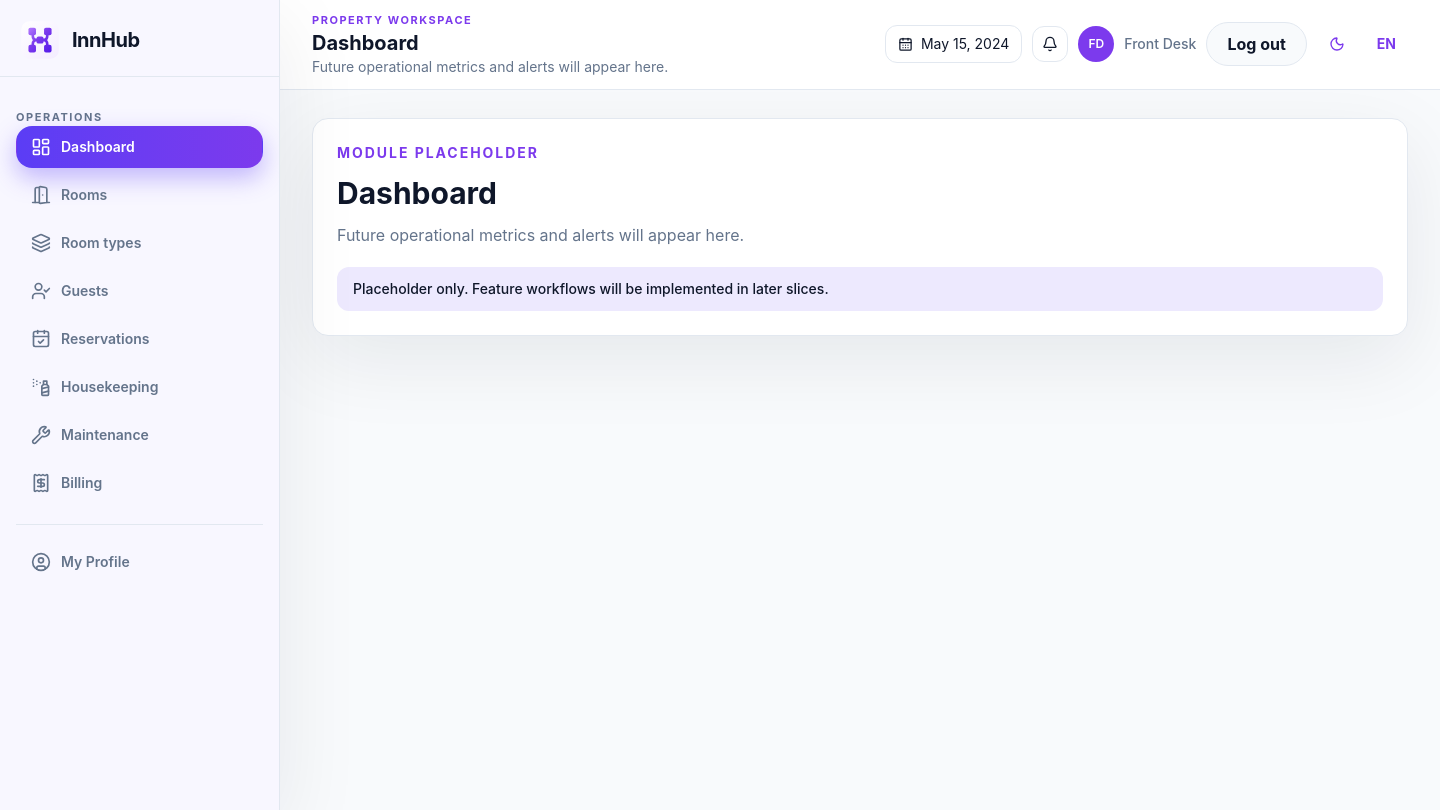
Scenario: app routing foundation › stops rendering protected content after logout
The width and height of the screenshot is (1440, 810).
Click the button "Log out": [1257, 44] box [1206,22,1307,66]
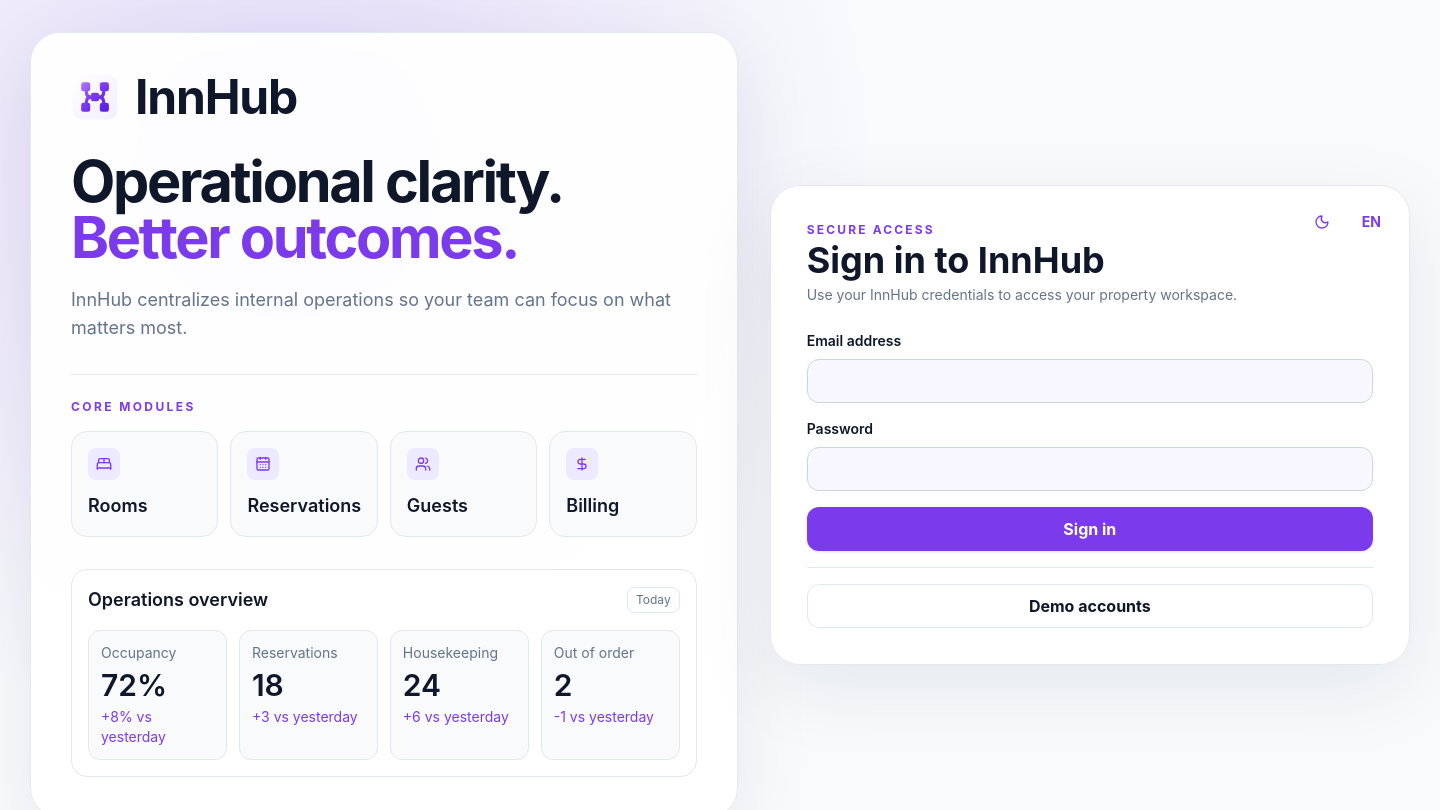
Result: the heading "Sign in to InnHub" is shown at [807,238,1105,282]
Result: the link "Dashboard" is gone
